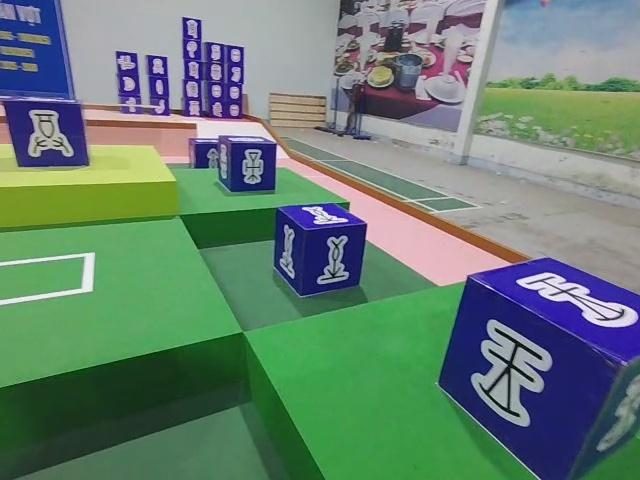R2 Real Blue: (440, 253, 640, 470), (276, 205, 370, 301), (0, 94, 89, 171), (214, 135, 275, 195)
